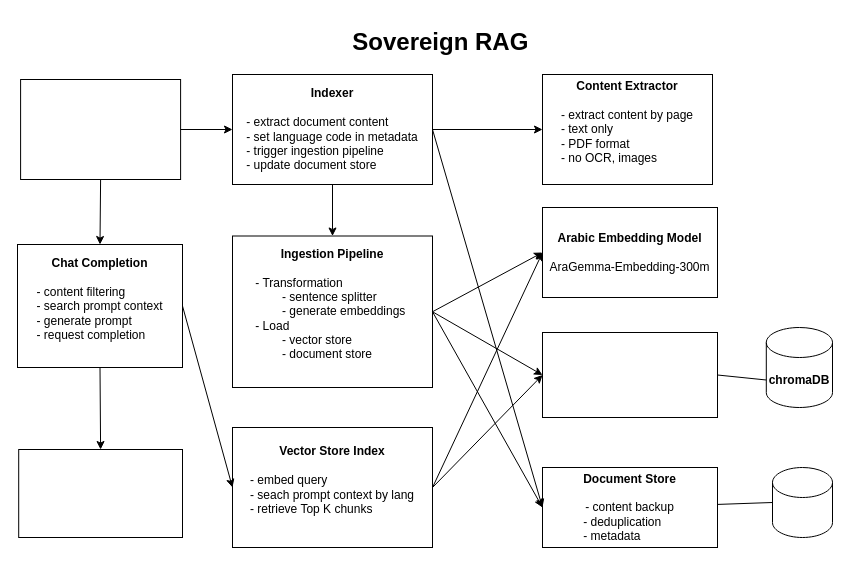
This 850x565 diagram has some shape labels left out. Here are the shapes that lost their labels. From the top down, the centre of each, then its label:
the point at 100,129: Sovereign Assistant - upload, index documents - chatbot assistant
the point at 630,375: Vector Store - embedding vectors - document chunks - metadata
the point at 100,493: Chat Model silma-ai/SILMA-Kashif-2B-Instruct-v1.0
the point at 802,502: JSON
